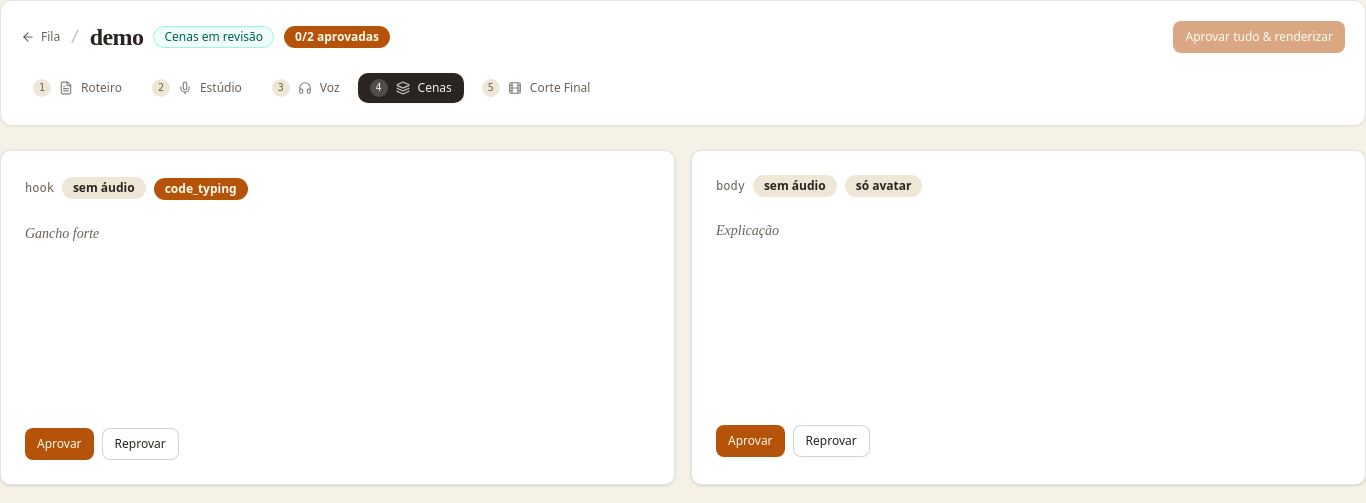
Test: ScenesReviewPage › blocks approve-all until every card is approved; decisions persist
Check: the button with test id "approve-all" is disabled, box [1174, 21, 1345, 53]
Click the button "Aprovar" below "Gancho forte" at point(59, 444), box [25, 428, 94, 460]
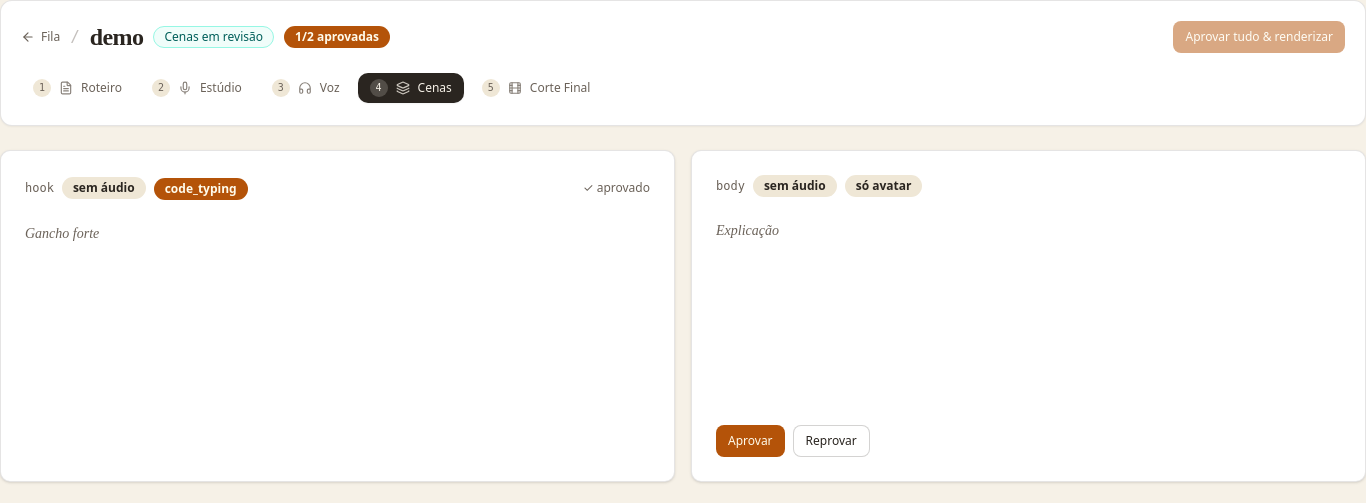
Click the button "Aprovar" at point(750, 441), box [716, 425, 785, 457]
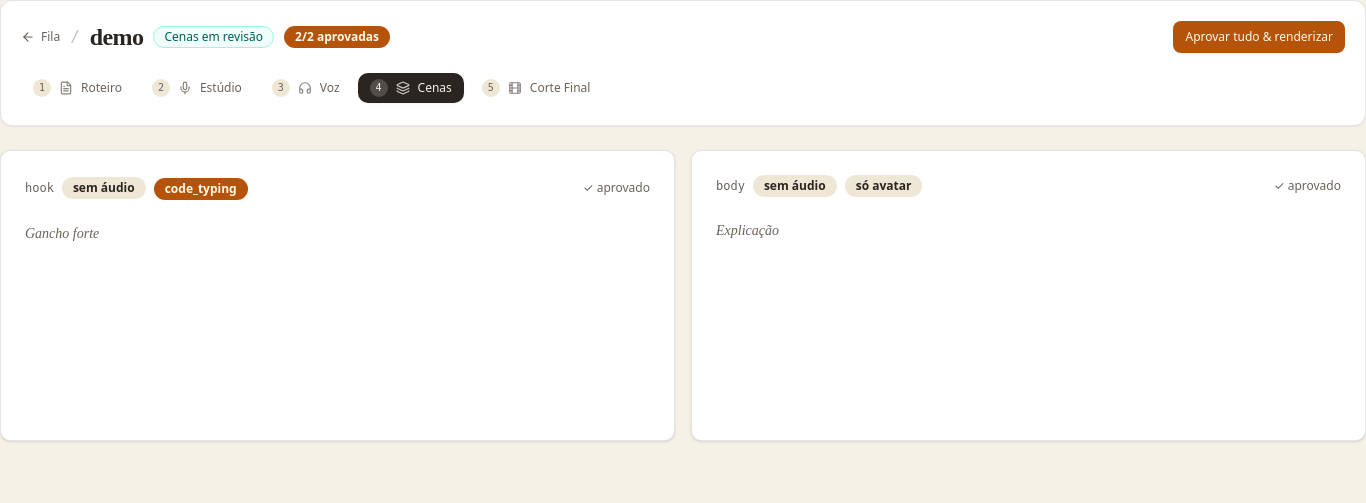
Check: the text with test id "review-progress" reads "2/2 aprovadas", box [284, 26, 390, 48]
Check: the button with test id "approve-all" is enabled, box [1174, 21, 1345, 53]
